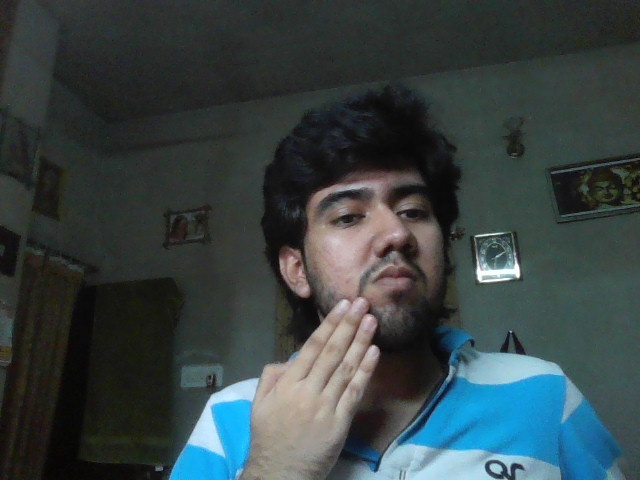ThankYou: (249, 297, 383, 469)
